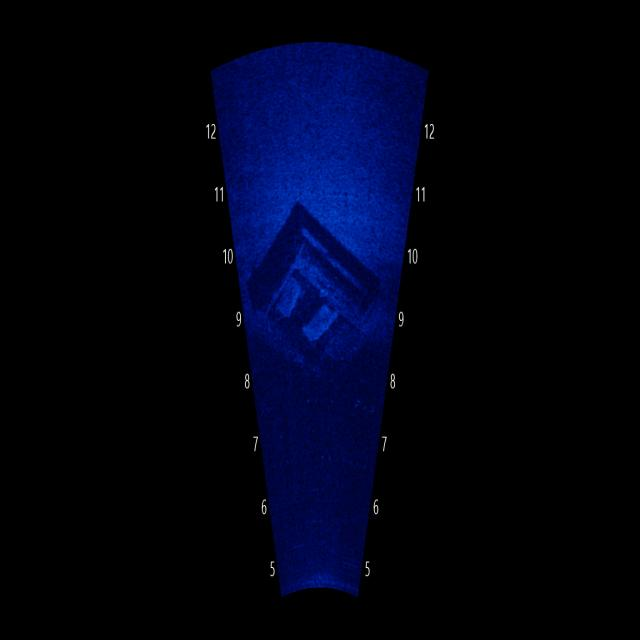square: (247, 188, 380, 430)
